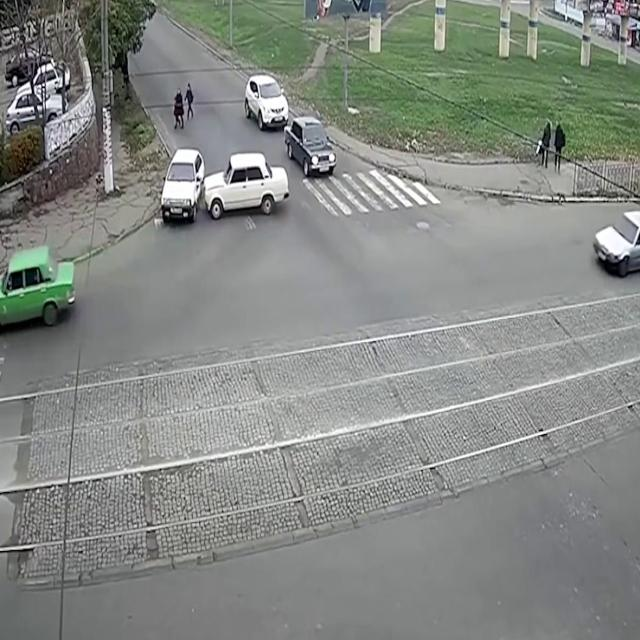accident: (157, 137, 291, 233)
non_accident: (238, 63, 342, 185)
